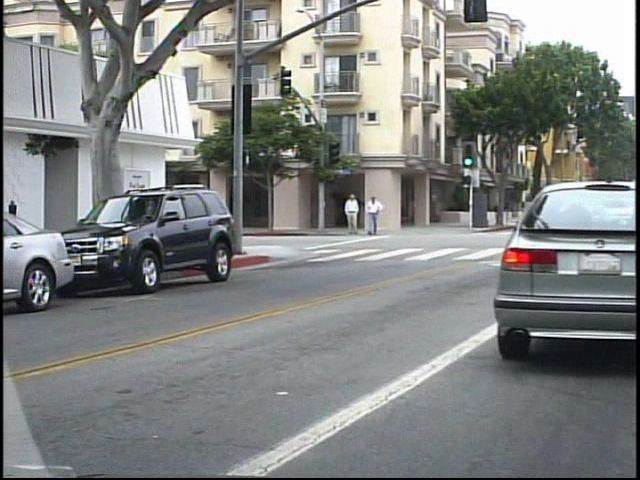person: (341, 192, 360, 243), (361, 193, 381, 238)
